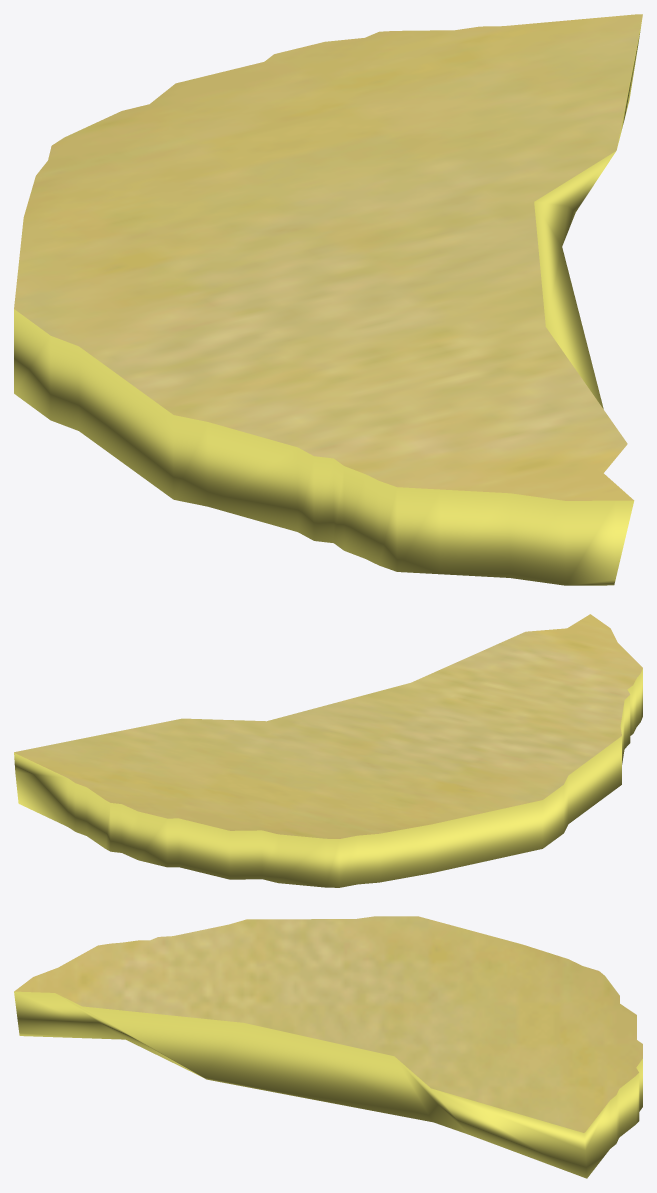
The model's file is Potato2.fbx.
3 views of the same model, one above another, from view 1: azimuth 30°, elevation 25°; view 2: azimuth 150°, elevation 25°; view 3: azimuth 270°, elevation 25° (orthographic). The views are drawn at different scales.
Visible parts, largest first — view 1: Cucumber.000; view 2: Cucumber.000; view 3: Cucumber.000.
Part boxes in pixels (x1,y1,x2,y2): Cucumber.000: [14, 14, 642, 585]; Cucumber.000: [14, 614, 642, 887]; Cucumber.000: [14, 916, 642, 1178].
Size of the model in its own units: 1313 by 137 by 1609.
